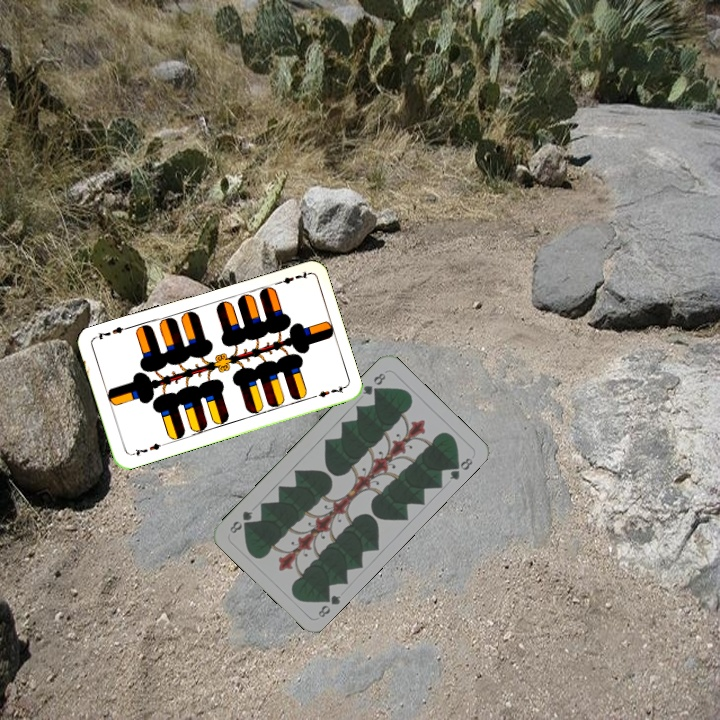E7: (271, 267, 311, 288), (127, 439, 167, 459)
G8: (314, 589, 344, 620), (358, 369, 388, 398)
